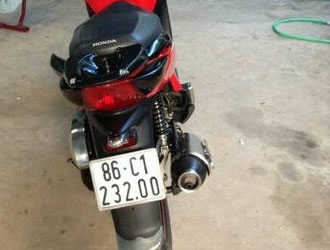bien_so: (90, 149, 165, 211)
